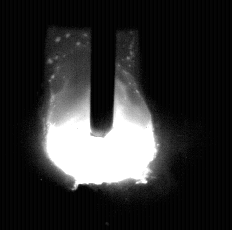arame: (91, 0, 114, 138)
poca: (46, 0, 156, 230)
